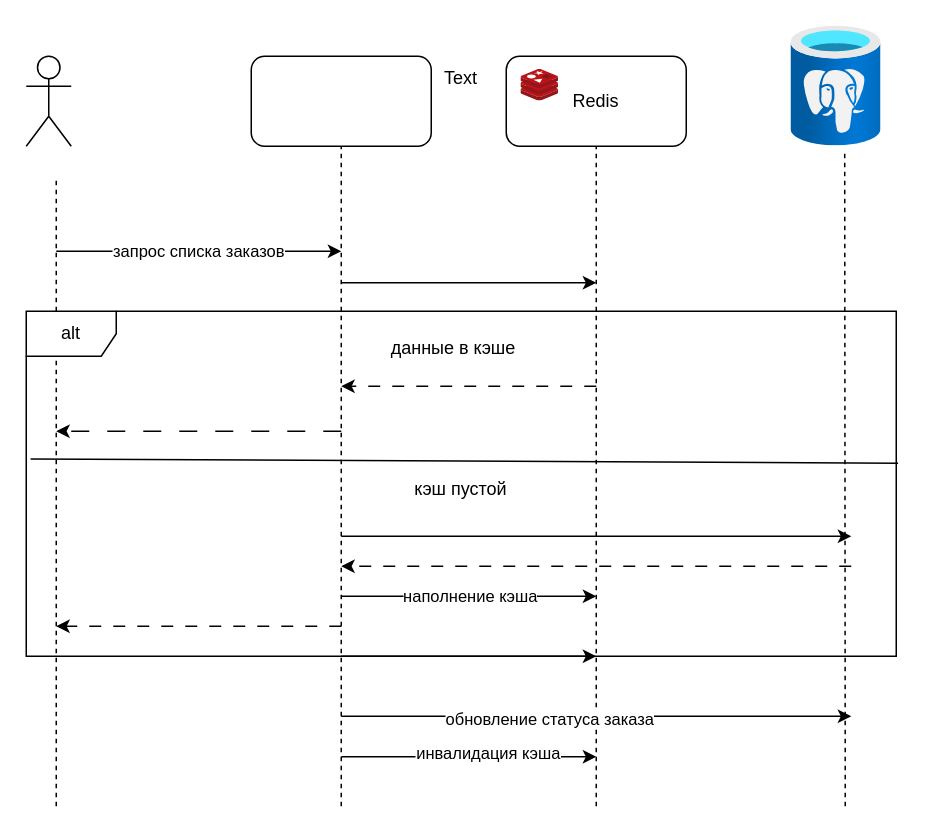
Some shapes in this 927 by 834 pixel diagram are drawn without their labels. The shapes that lost their labels are listed below. From the top down, each one's centre as x and y in pixels, then its label:
point 48,100: Actor
point 340,100: MES
